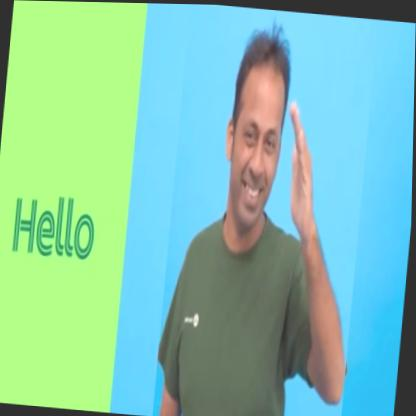Hello: (155, 3, 378, 416)
